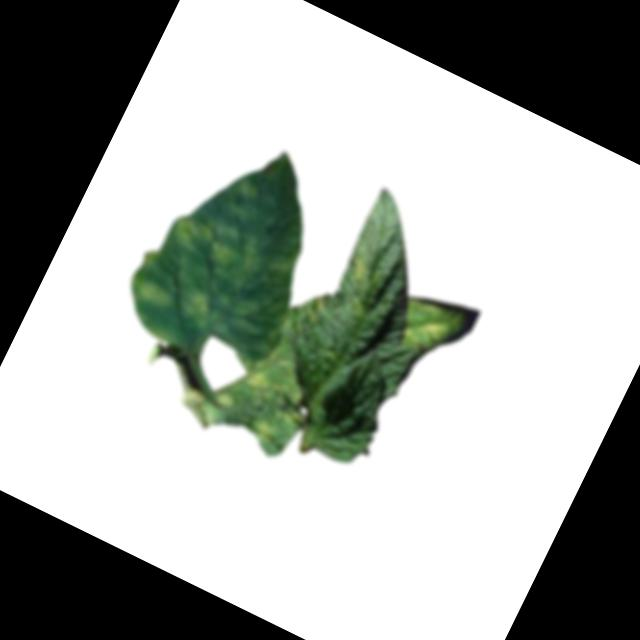Leaf_Mold: (159, 199, 307, 312), (208, 339, 322, 455), (171, 281, 225, 334), (125, 270, 179, 319), (342, 255, 376, 289)
